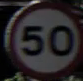Speed limit: (8, 3, 76, 70)
